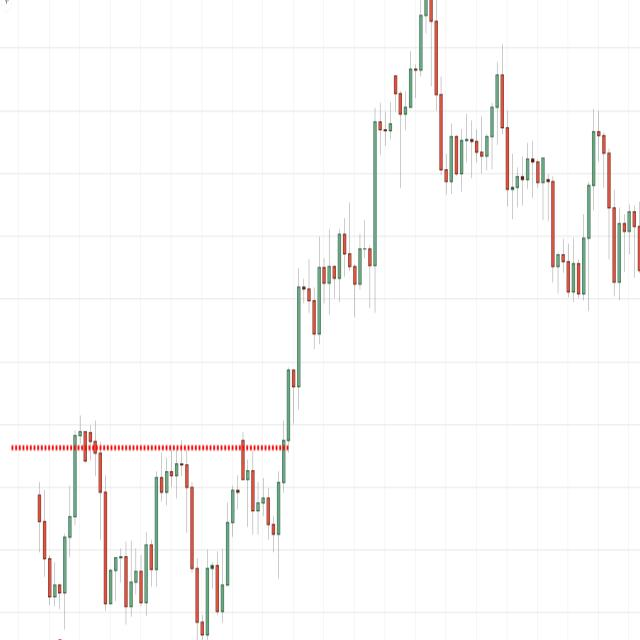Triple-Bottom: (26, 444, 292, 640)
